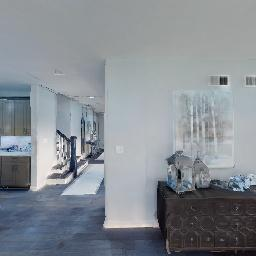stairs: (50, 126, 85, 187)
